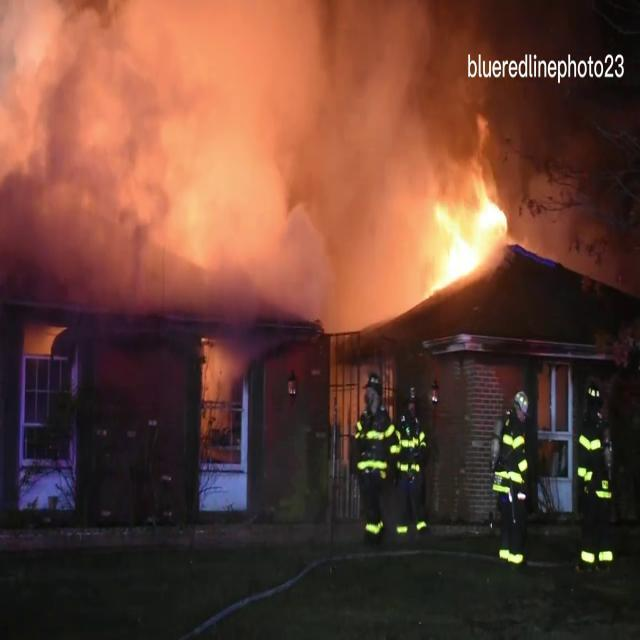Fire: (414, 175, 518, 298)
Smoke: (0, 1, 450, 300)
